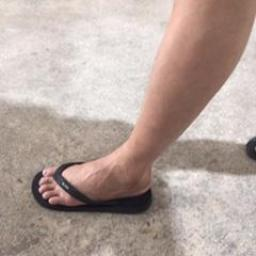Lateral View -Left Foot-: (27, 120, 175, 214)
